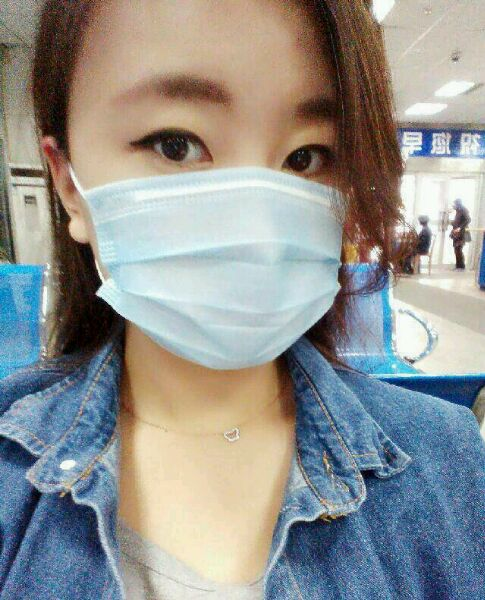face_mask: (85, 0, 359, 371)
